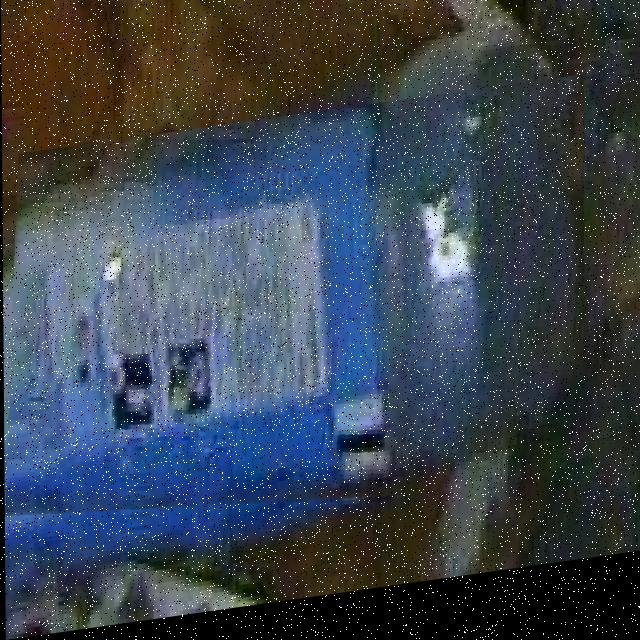plasticbottle: (1, 92, 584, 568)
